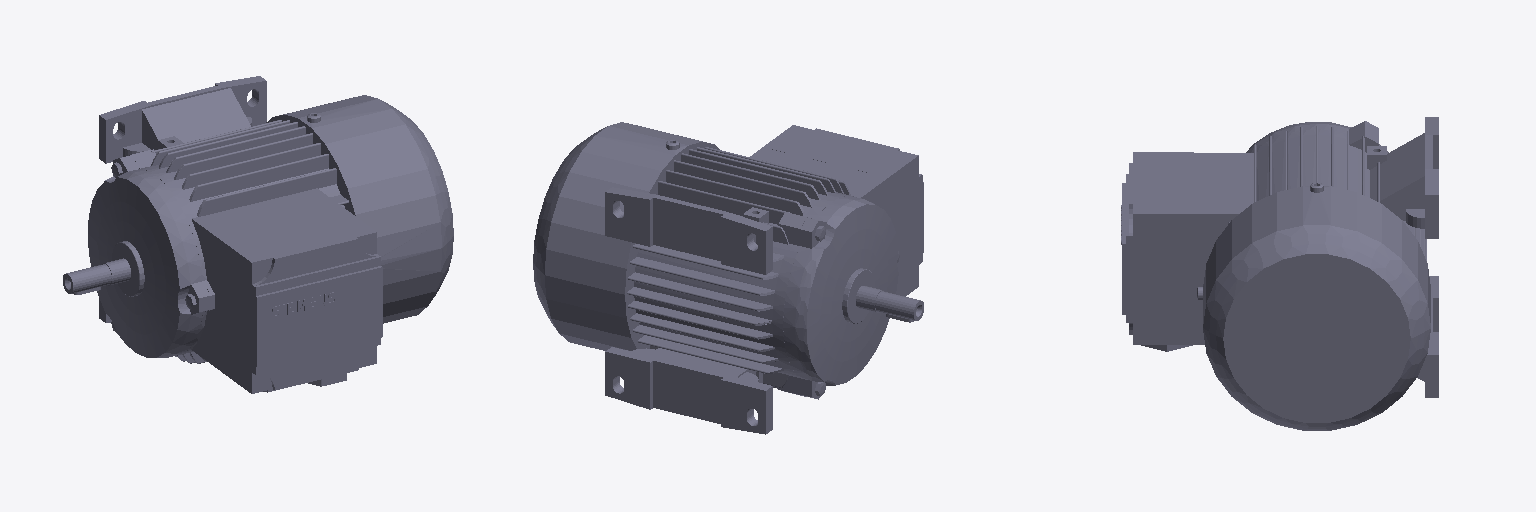
File: Siemens_Motors.obj
The picture shows the model from 3 angles: view 1: azimuth 30°, elevation 25°; view 2: azimuth 150°, elevation 25°; view 3: azimuth 270°, elevation 25°; orthographic projection.
Parts seen in each view (by area): view 1: Part__Feature; view 2: Part__Feature; view 3: Part__Feature.
Boxes of the visible parts, <box> form: Part__Feature: <box>63,76,453,393</box>; Part__Feature: <box>533,122,923,434</box>; Part__Feature: <box>1121,117,1438,430</box>.
Bounding box in the file's own units: 202 × 124 × 164.